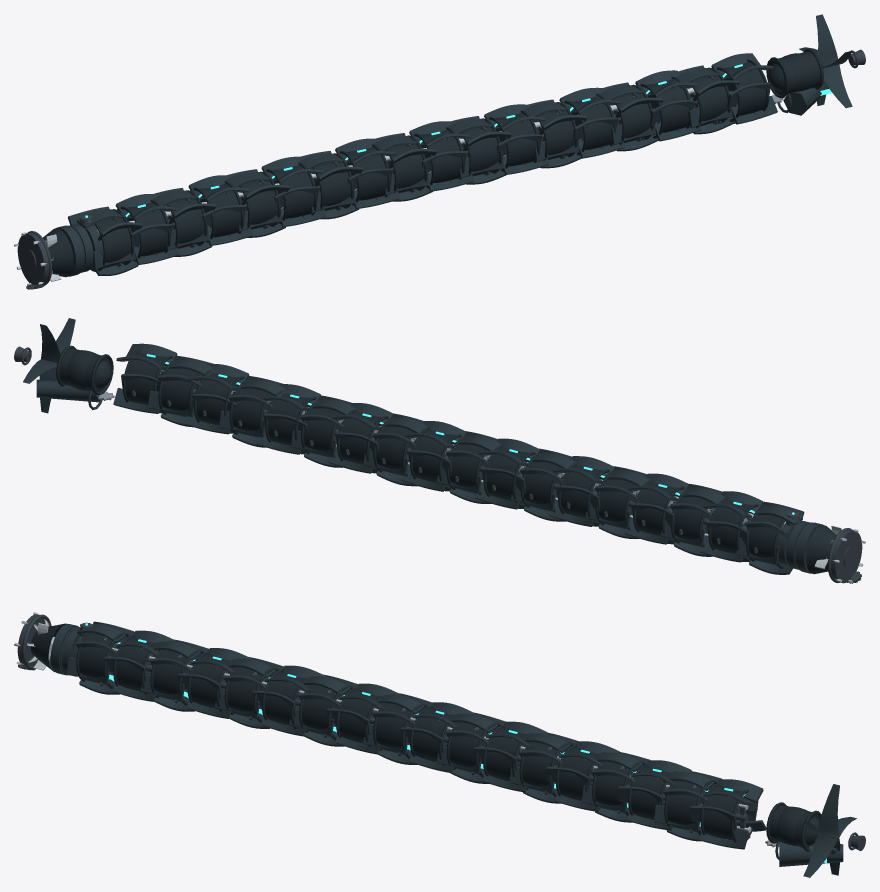
Rendered from abyss-salvager-ac-vii.glb.
3 views of the same model, one above another, from view 1: azimuth 30°, elevation 25°; view 2: azimuth 150°, elevation 25°; view 3: azimuth 330°, elevation 25° (orthographic).
Visible parts, largest first — view 1: tail, head, segment-17, segment-0, segment-15, segment-16, segment-11, segment-14, segment-13, segment-9, segment-7, segment-3 (+8 smaller); view 2: tail, head, segment-3, segment-5, segment-7, segment-1, segment-9, segment-17, segment-11, segment-0, segment-13, segment-14 (+8 smaller); view 3: tail, segment-17, head, segment-0, segment-2, segment-4, segment-6, segment-8, segment-3, segment-5, segment-1, segment-10 (+8 smaller).
Boxes of the visible parts, box(x1,y1,x2,y2) form: tail: box(766, 14, 865, 115); head: box(14, 215, 103, 289); segment-17: box(711, 53, 777, 124); segment-0: box(67, 206, 142, 275); segment-15: box(635, 70, 701, 141); segment-16: box(672, 65, 739, 134); segment-11: box(484, 104, 548, 174); segment-14: box(595, 82, 662, 151); segment-13: box(559, 87, 624, 158); segment-9: box(409, 121, 473, 191); segment-7: box(335, 138, 399, 208); segment-3: box(188, 175, 252, 245); tail: box(14, 318, 114, 413); head: box(776, 512, 865, 583); segment-3: box(624, 473, 689, 544); segment-5: box(549, 456, 614, 526); segment-7: box(474, 438, 540, 509); segment-1: box(700, 491, 763, 562); segment-9: box(401, 421, 466, 491); segment-17: box(113, 343, 177, 413); segment-11: box(328, 403, 393, 473); segment-0: box(736, 501, 804, 574); segment-13: box(256, 384, 321, 454); segment-14: box(219, 376, 285, 447); tail: box(765, 784, 865, 877); segment-17: box(690, 779, 766, 849); head: box(14, 612, 92, 676); segment-0: box(66, 621, 134, 694); segment-2: box(140, 639, 208, 711); segment-4: box(214, 657, 283, 728); segment-6: box(289, 674, 358, 746); segment-8: box(363, 693, 432, 764); segment-3: box(177, 648, 251, 718); segment-5: box(252, 665, 325, 736); segment-1: box(103, 630, 175, 701); segment-10: box(436, 712, 505, 783).
Bounding box in the file's own units: 22.68 × 2.3 × 2.21.
